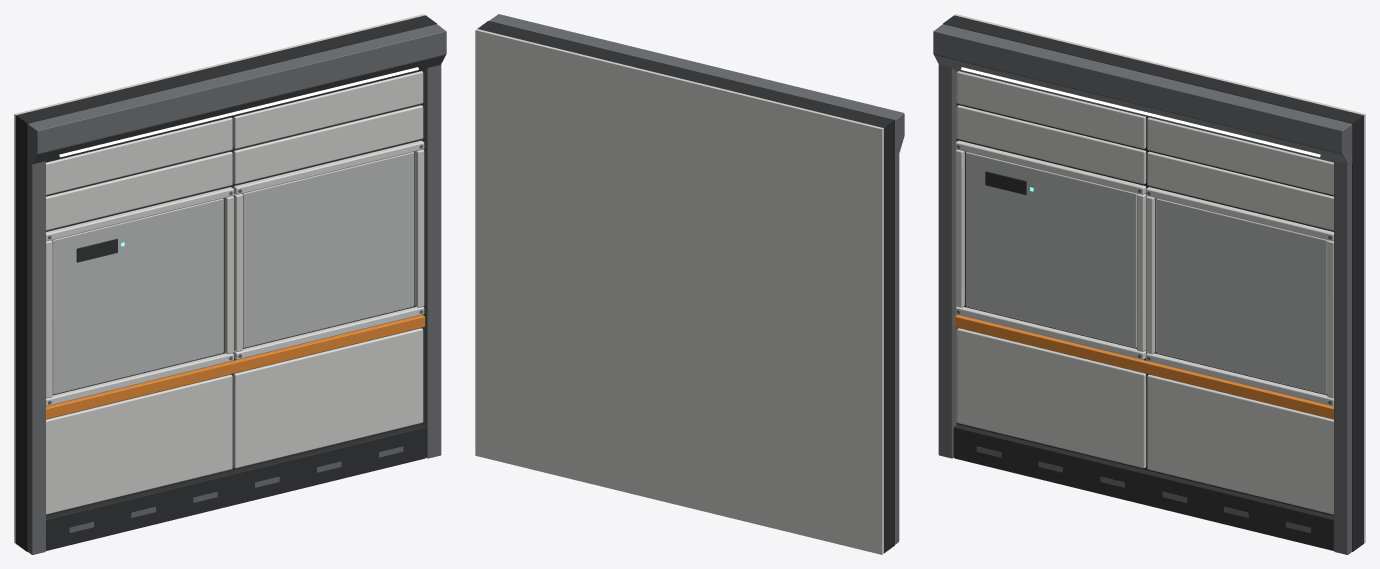
File: kit_wall.glb
3 views of the same model, side by side, from view 1: azimuth 30°, elevation 25°; view 2: azimuth 150°, elevation 25°; view 3: azimuth 330°, elevation 25° (orthographic).
Parts seen in each view (by area): view 1: kit_wall; view 2: kit_wall; view 3: kit_wall.
Part boxes in pixels (x1,y1,x2,y2): kit_wall: [14, 14, 446, 554]; kit_wall: [475, 14, 904, 554]; kit_wall: [933, 14, 1365, 554].
Size of the model in its own units: 4 by 4 by 0.39.
